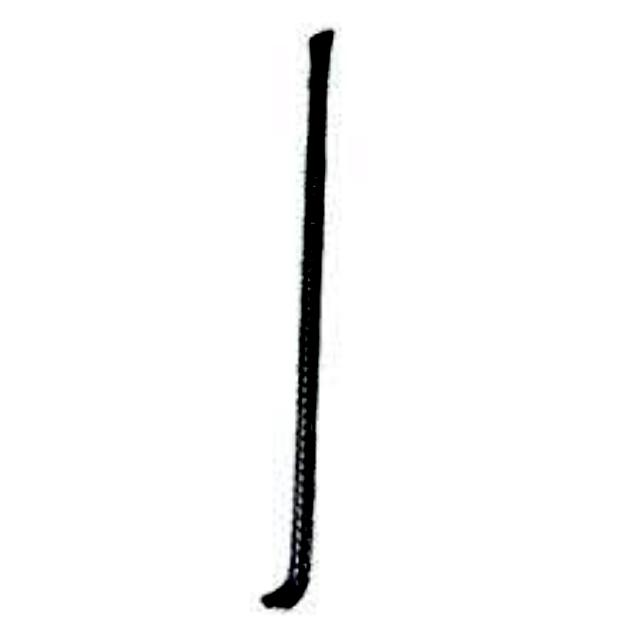crow bar: (252, 21, 346, 628)
